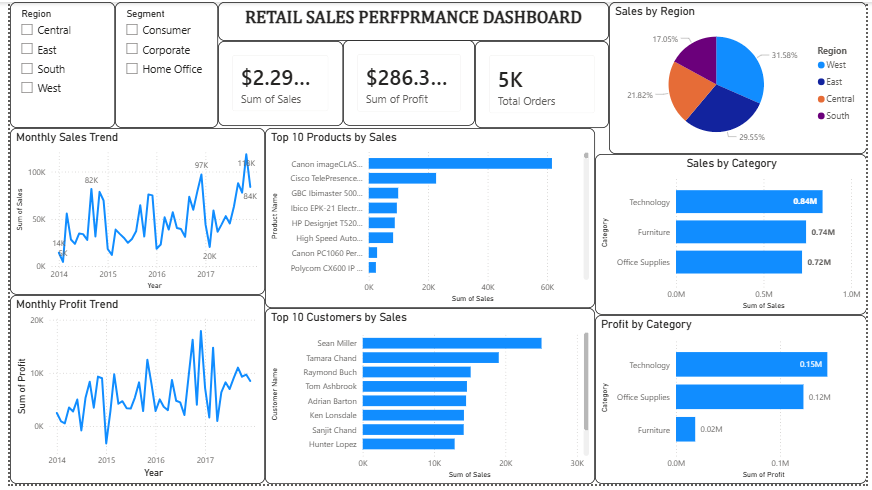

The dashboard page shown, as its layout file describes it:
{"tool":"powerbi","page":{"name":"Page 1","canvas":[1280,720],"ordinal":0},"visuals":[{"type":"cardVisual","fields":{"Data":["Sum(Superstore.Sales)"]},"box":[310.7,58.3,186.7,127],"z":0},{"type":"cardVisual","fields":{"Data":["Sum(Superstore.Profit)"]},"box":[497.4,56.8,197.2,128.5],"z":1000},{"type":"cardVisual","fields":{"Data":["Superstore.Total Orders"]},"box":[694.6,58.3,200.2,130],"z":2000},{"type":"clusteredBarChart","title":"Sales by Category","fields":{"Category":["Superstore.Category"],"Y":["Sum(Superstore.Sales)"]},"box":[873.9,227.1,406.3,240.5],"z":3000},{"type":"clusteredBarChart","title":"Profit by Category","fields":{"Category":["Superstore.Category"],"Y":["Sum(Superstore.Profit)"]},"box":[873.9,467.6,406.3,252.4],"z":4000},{"type":"pieChart","title":"Sales by Region","fields":{"Category":["Superstore.Region"],"Y":["Sum(Superstore.Sales)"]},"box":[894.8,0,385.4,227.1],"z":5000},{"type":"lineChart","title":"Monthly Sales Trend","fields":{"Category":["Superstore.Order Date.Variation.Date Hierarchy.Year","Superstore.Order Date.Variation.Date Hierarchy.Month"],"Y":["Sum(Superstore.Sales)"]},"box":[0,188.2,380.9,249.5],"z":6000},{"type":"lineChart","title":"Monthly Profit Trend","fields":{"Category":["Superstore.Order Date.Variation.Date Hierarchy.Year","Superstore.Order Date.Variation.Date Hierarchy.Month"],"Y":["Sum(Superstore.Profit)"]},"box":[0,437.7,380.9,282.3],"z":7000},{"type":"barChart","title":"Top 10 Customers by Sales","fields":{"Category":["Superstore.Customer Name"],"Y":["Sum(Superstore.Sales)"]},"box":[380.9,457.1,492.9,262.9],"z":8000},{"type":"barChart","title":"Top 10 Products by Sales","fields":{"Y":["Sum(Superstore.Sales)"],"Category":["Superstore.Product Name"]},"box":[380.9,188.2,492.9,268.9],"z":9000},{"type":"slicer","fields":{"Values":["Superstore.Region"]},"box":[0,0,156.8,188.2],"z":10000},{"type":"slicer","fields":{"Values":["Superstore.Segment"]},"box":[156.8,0,153.9,188.2],"z":11000},{"type":"textbox","box":[310.7,0,584.1,58.3],"z":12000}]}

Visuals, with their boxes in screenshot pixels (x1, y1, x2, y2), scaled from the page's 1280x720 canvas onto the 872x490 screenshot:
cardVisual - Sum(Superstore.Sales): l=212, t=40, r=339, b=126
cardVisual - Sum(Superstore.Profit): l=339, t=39, r=473, b=126
cardVisual - Superstore.Total Orders: l=473, t=40, r=610, b=128
"Sales by Category" clusteredBarChart: l=595, t=155, r=871, b=318
"Profit by Category" clusteredBarChart: l=595, t=318, r=871, b=489
"Sales by Region" pieChart: l=610, t=0, r=871, b=155
"Monthly Sales Trend" lineChart: l=0, t=128, r=259, b=298
"Monthly Profit Trend" lineChart: l=0, t=298, r=259, b=489
"Top 10 Customers by Sales" barChart: l=259, t=311, r=595, b=489
"Top 10 Products by Sales" barChart: l=259, t=128, r=595, b=311
slicer - Superstore.Region: l=0, t=0, r=107, b=128
slicer - Superstore.Segment: l=107, t=0, r=212, b=128
textbox: l=212, t=0, r=610, b=40
